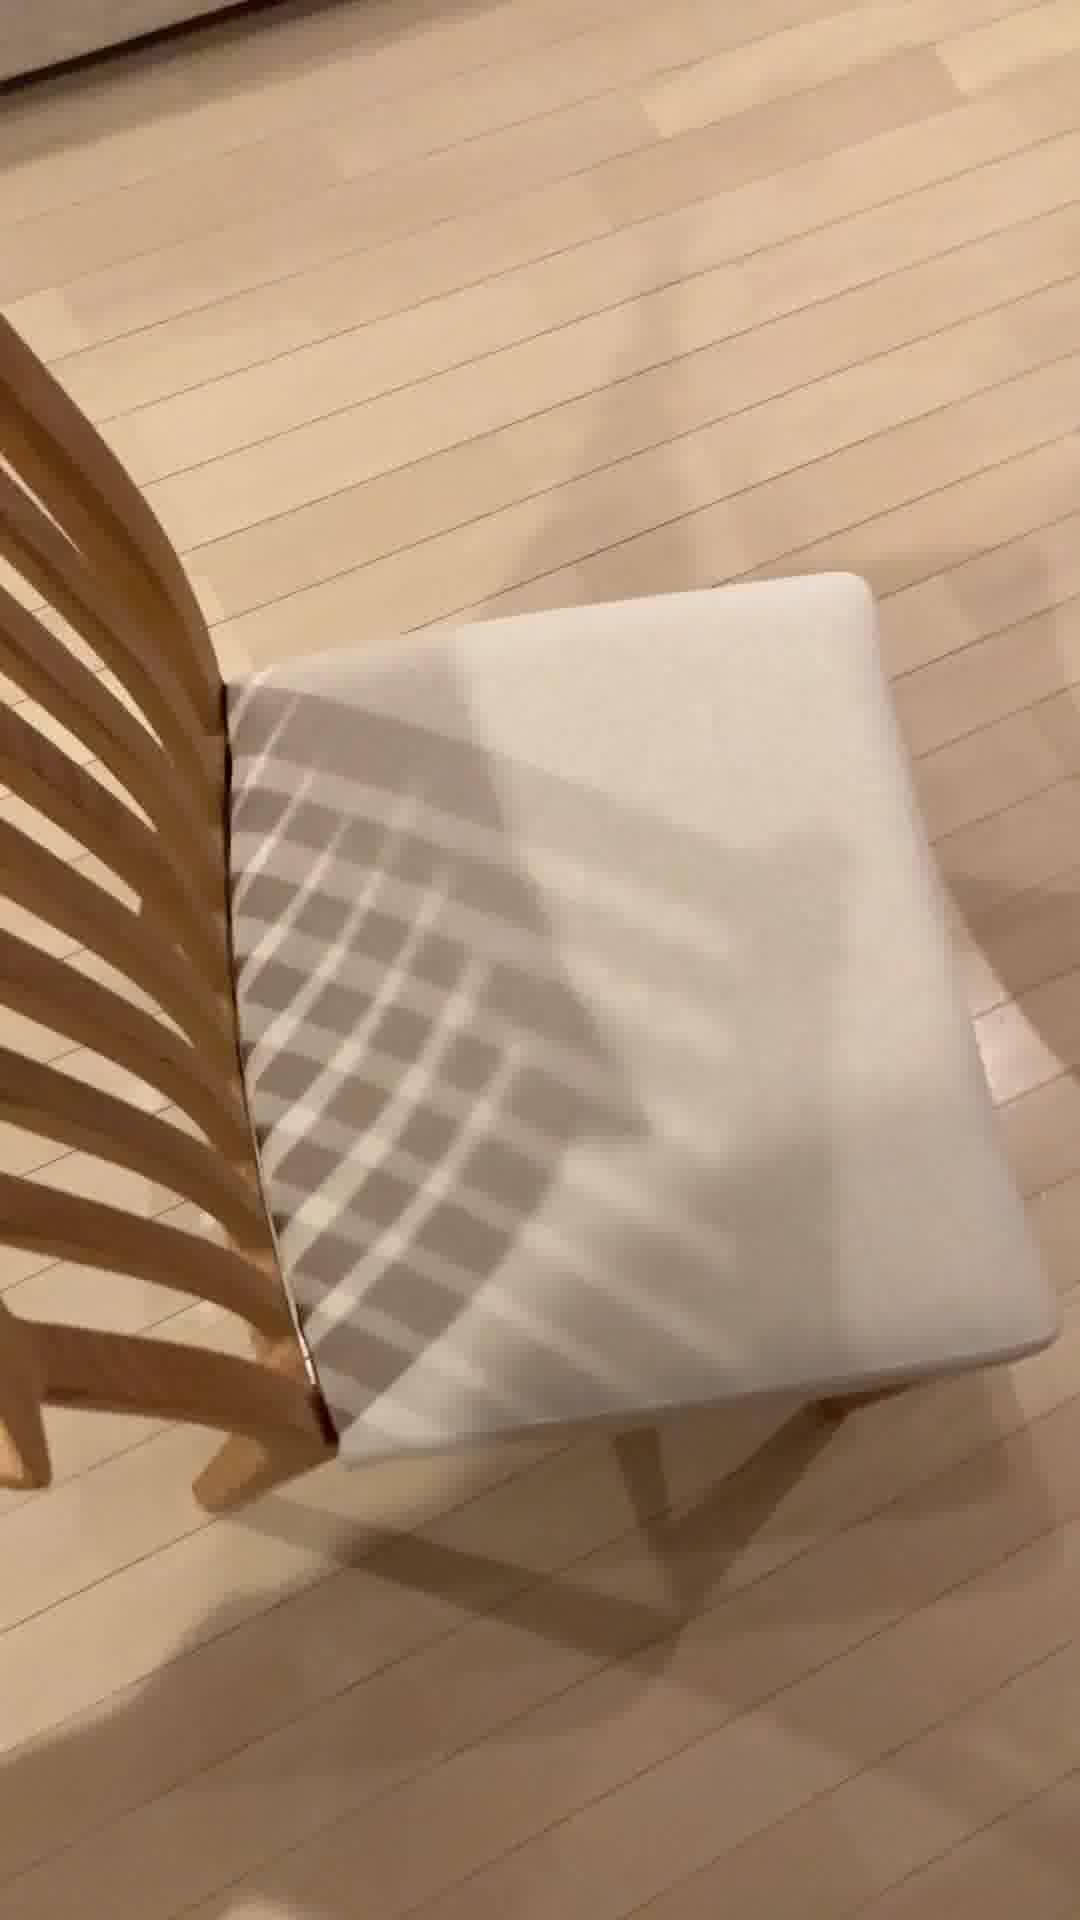takumikan-chair: (0, 302, 1064, 1523)
